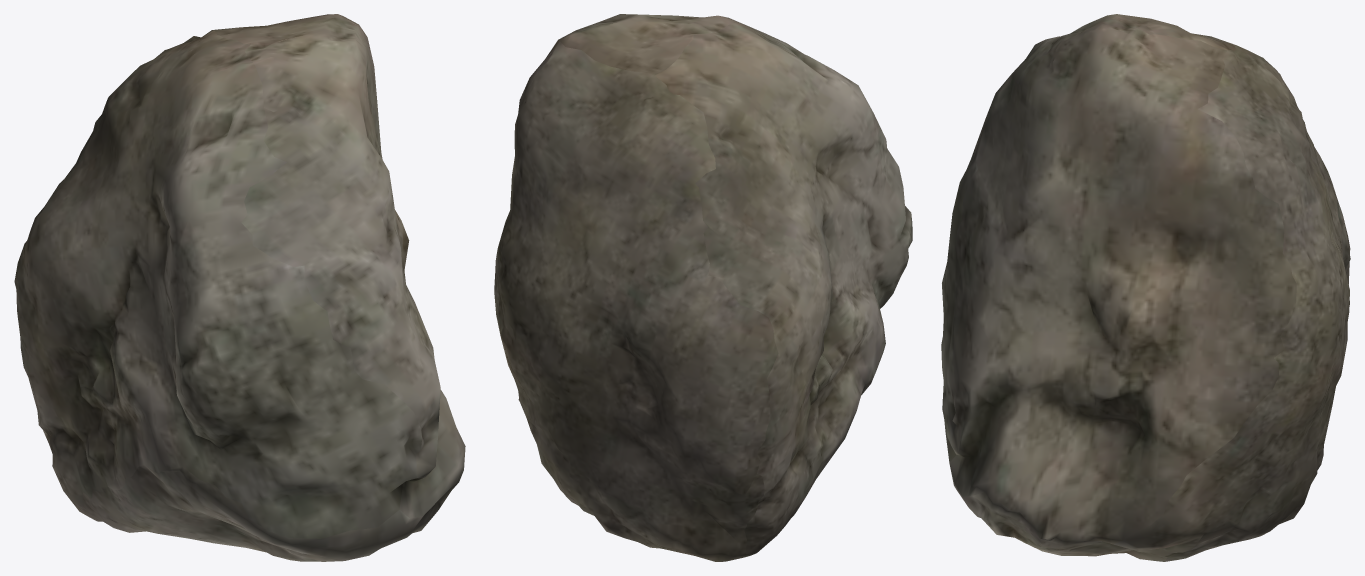
The model's file is boulder_small.glb.
3 renders of one model, left to right at view 1: azimuth 30°, elevation 25°; view 2: azimuth 150°, elevation 25°; view 3: azimuth 270°, elevation 25°, orthographic. The views are drawn at different scales.
Visible parts, largest first — view 1: Catapult_Ammo_Stone_001_LOD0; view 2: Catapult_Ammo_Stone_001_LOD0; view 3: Catapult_Ammo_Stone_001_LOD0.
Part boxes in pixels (x1,y1,x2,y2): Catapult_Ammo_Stone_001_LOD0: (14, 14, 465, 561); Catapult_Ammo_Stone_001_LOD0: (494, 14, 912, 561); Catapult_Ammo_Stone_001_LOD0: (941, 14, 1350, 561).
Size of the model in its own units: 0.3254 by 0.4892 by 0.3552.
1 material, 1 textured.
